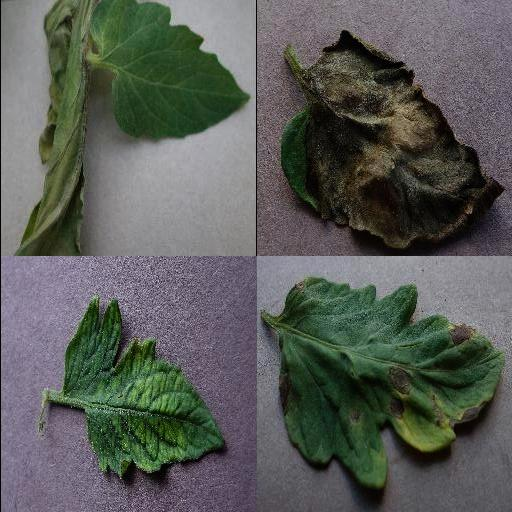Early Blight: (276, 275, 506, 489)
Healthy: (88, 0, 250, 141)
Late Blight: (281, 28, 509, 252), (13, 0, 87, 256)
Mosaic Virus: (61, 295, 227, 479)
